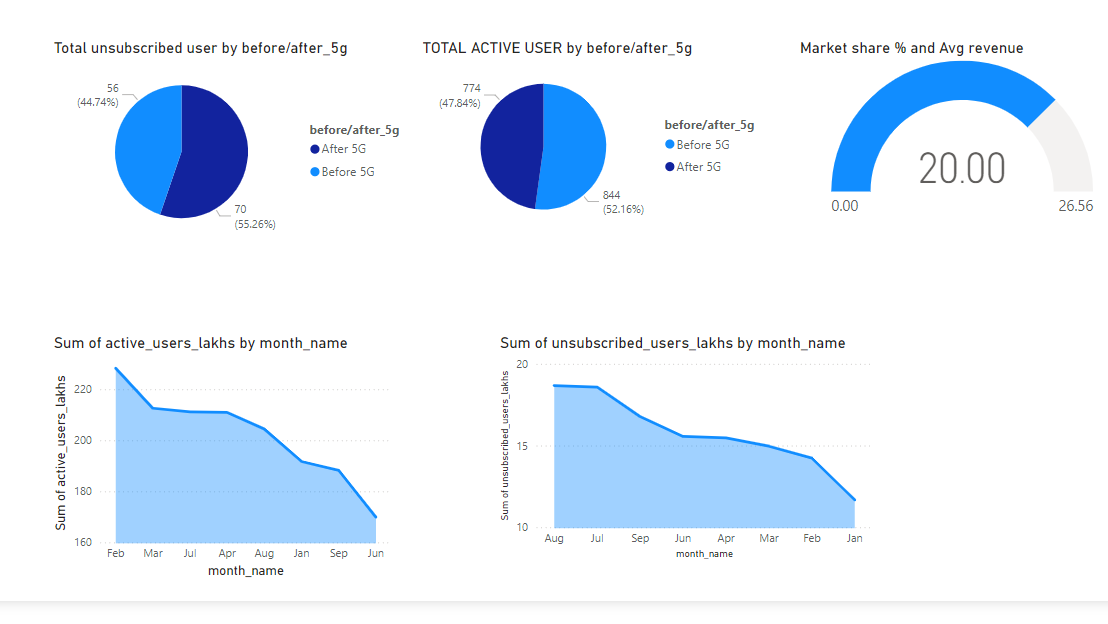

This screenshot's page, from the dashboard's own definition file:
{"tool":"powerbi","page":{"name":"Active and unsubscribed users ","canvas":[1280,720],"ordinal":3},"visuals":[{"type":"pieChart","fields":{"Y":["KPI.TOTAL ACTIVE USER"],"Category":["dim_date.before/after_5g"]},"box":[499.5,102.9,389.7,218.2],"z":0},{"type":"pieChart","fields":{"Y":["KPI.Total unsubscribed user"],"Category":["dim_date.before/after_5g"]},"box":[94.7,102.9,404.8,229.2],"z":1},{"type":"stackedAreaChart","fields":{"Category":["dim_date.month_name"],"Y":["Sum(fact_gds_metrics.active_users_lakhs)"]},"box":[94.7,426.8,380.1,273.1],"z":2},{"type":"gauge","fields":{"Y":["KPI.Market share %"],"MaxValue":["KPI.Avg revenue"]},"box":[913.9,102.9,366.4,204.5],"z":3},{"type":"areaChart","fields":{"Category":["dim_date.month_name"],"Y":["Sum(fact_gds_metrics.unsubscribed_users_lakhs)"]},"box":[584.6,426.8,418.5,252.5],"z":4}]}

Visuals, with their boxes in screenshot pixels (x1, y1, x2, y2), scaled from the page's 1280x720 canvas onto the 1108x624 screenshot:
pieChart - KPI.TOTAL ACTIVE USER x dim_date.before/after_5g: select_region(432, 89, 770, 278)
pieChart - KPI.Total unsubscribed user x dim_date.before/after_5g: select_region(82, 89, 432, 288)
stackedAreaChart - dim_date.month_name x Sum(fact_gds_metrics.active_users_lakhs): select_region(82, 370, 411, 607)
gauge - KPI.Market share % x KPI.Avg revenue: select_region(791, 89, 1107, 266)
areaChart - dim_date.month_name x Sum(fact_gds_metrics.unsubscribed_users_lakhs): select_region(506, 370, 868, 589)
